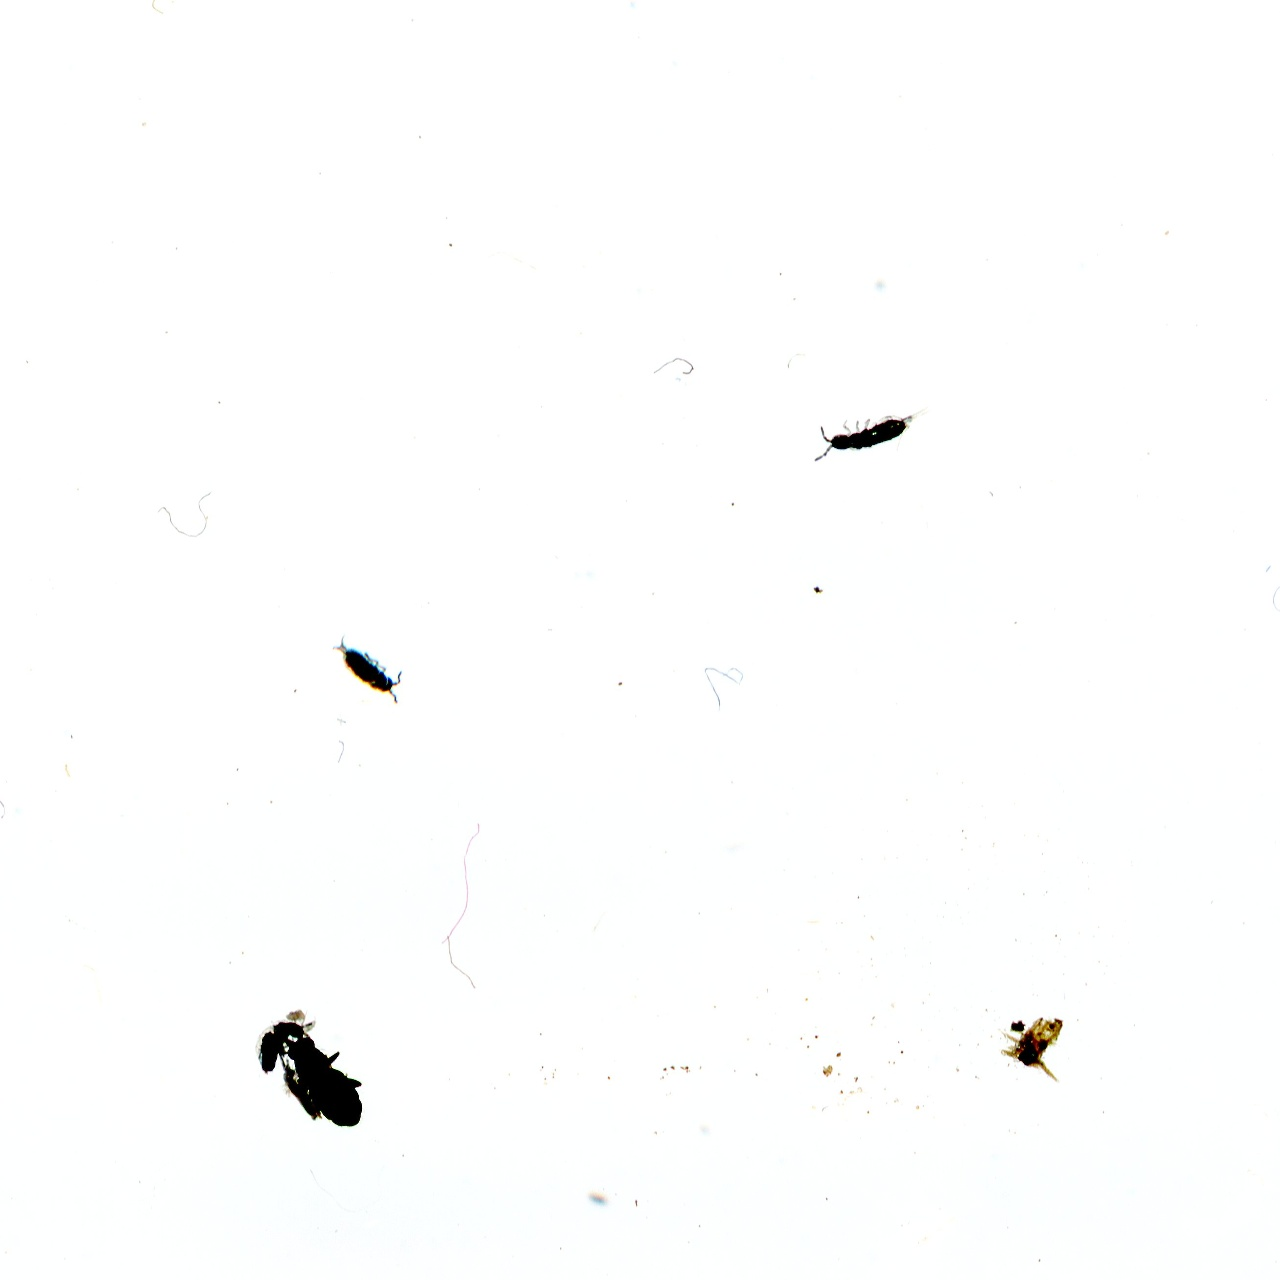arthropod: (799, 388, 949, 474), (318, 613, 423, 722)
